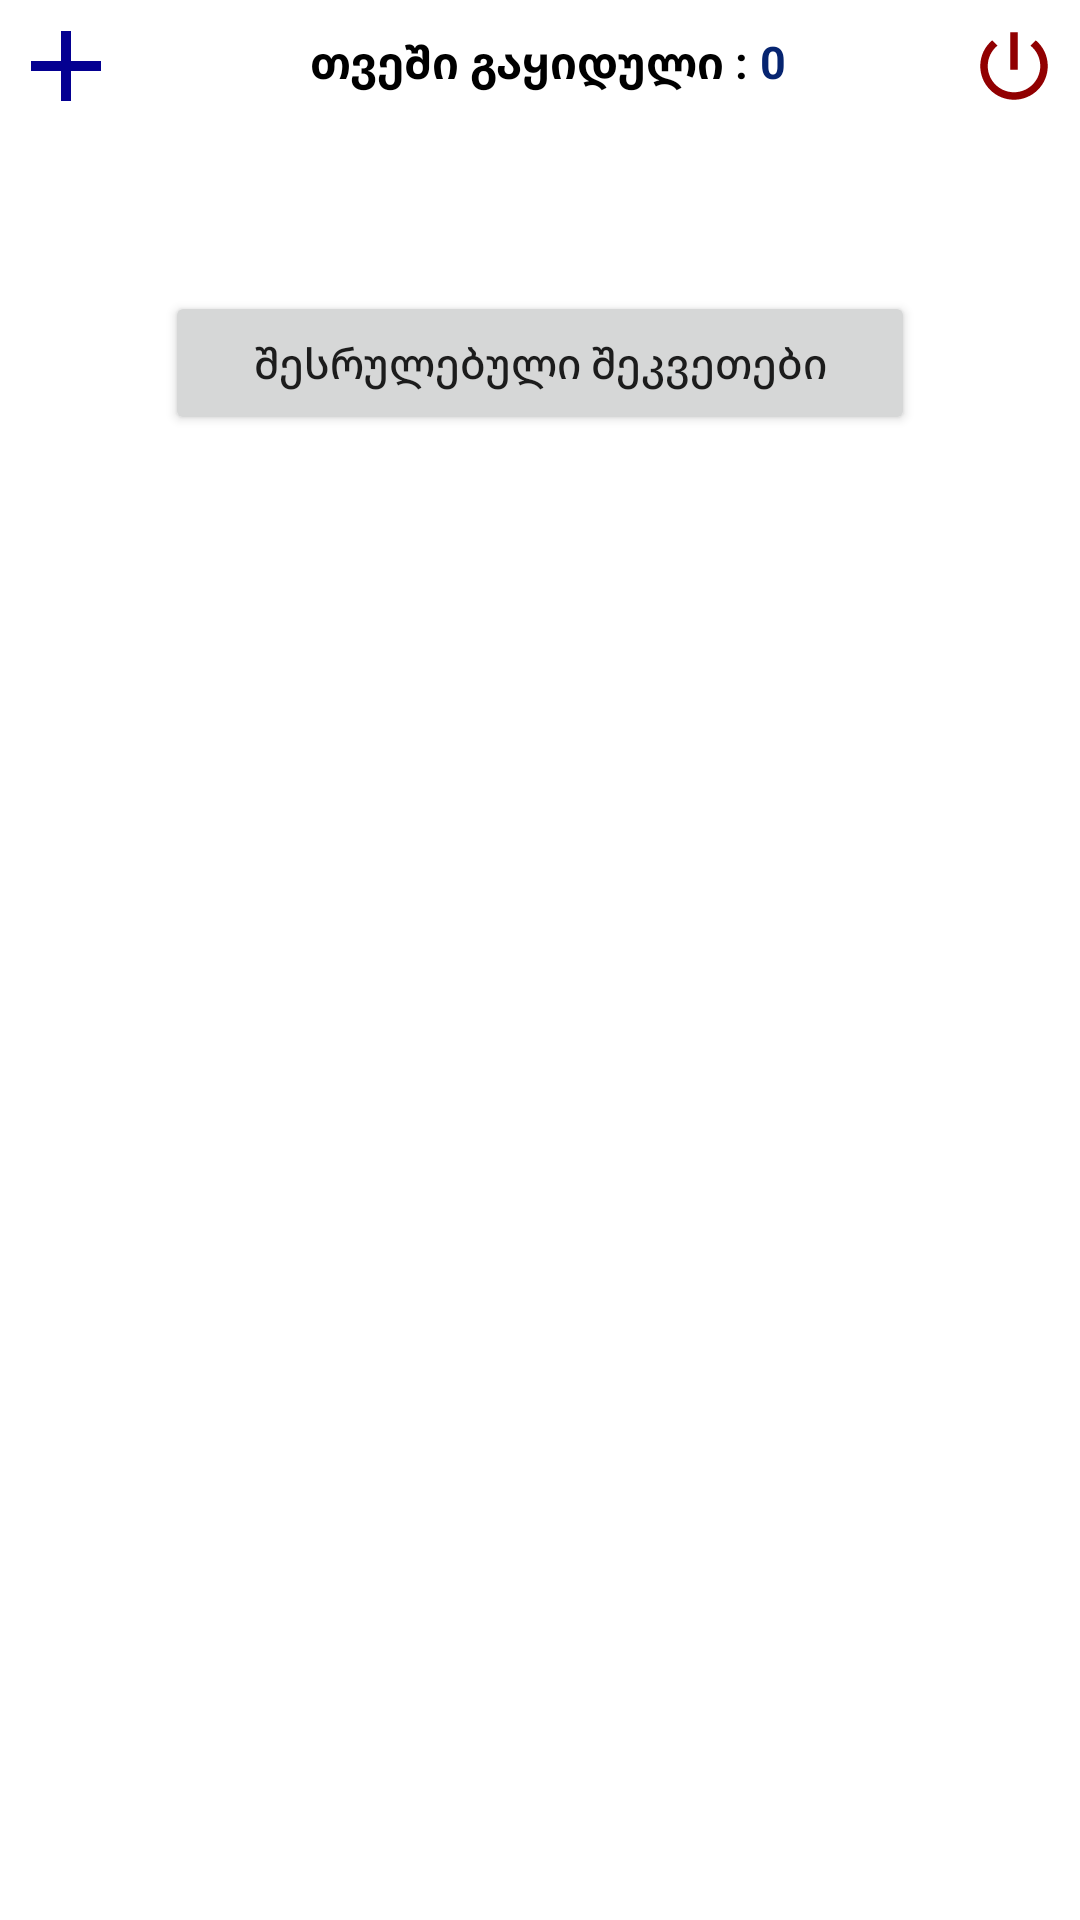

Icons on this 1080w x 1920h Android screen, each with its box as (x1, y1, x2, y2):
add: (31, 31, 101, 101)
power settings: (980, 32, 1048, 100)
